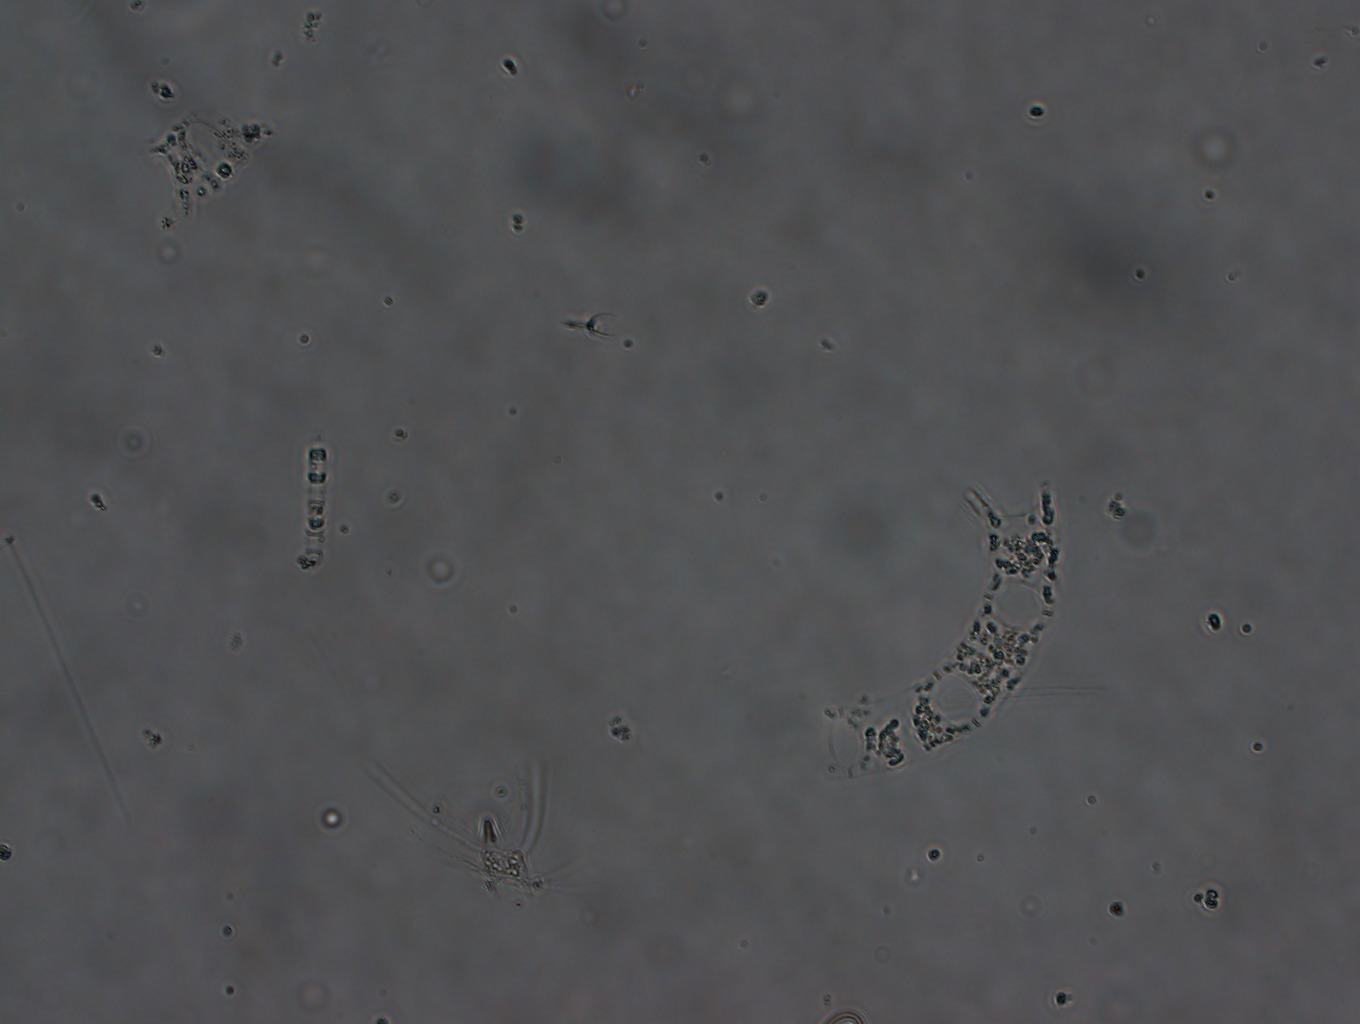eucampia: (808, 473, 1085, 793)
skeletonema: (287, 427, 339, 582)
